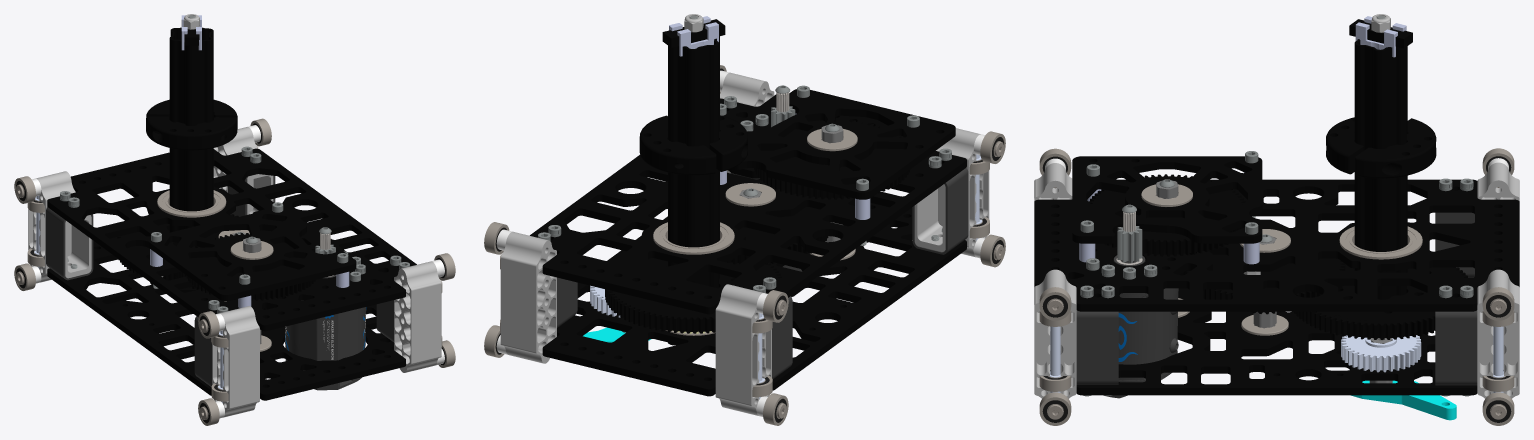
3 views of the same model, side by side, from view 1: azimuth 30°, elevation 25°; view 2: azimuth 150°, elevation 25°; view 3: azimuth 270°, elevation 25° (orthographic). The views are drawn at different scales.
Parts seen in each view (by area): view 1: NAUO1, NAUO2, NAUO79 (×4), NAUO19, NAUO16, NAUO3, NAUO26, NAUO17, NAUO31, NAUO30, NAUO88 (×2), NAUO87 (×2) (+3 smaller); view 2: NAUO1, NAUO2, NAUO79 (×4), NAUO19, NAUO16, NAUO26, NAUO15, NAUO17, NAUO30, NAUO88 (×3), NAUO31, NAUO87 (×2) (+7 smaller); view 3: NAUO1, NAUO2, NAUO19, NAUO16, NAUO79 (×4), NAUO26, NAUO15, NAUO3, NAUO28, NAUO29, NAUO17, NAUO33 (+15 smaller).
Part boxes in pixels (<box>): NAUO1: <box>47,148,416,331</box>; NAUO2: <box>47,237,405,400</box>; NAUO79 (×4): <box>28,127,441,417</box>; NAUO19: <box>147,207,356,300</box>; NAUO16: <box>169,27,213,232</box>; NAUO3: <box>285,233,366,390</box>; NAUO26: <box>146,99,237,150</box>; NAUO17: <box>186,233,315,300</box>; NAUO31: <box>46,207,93,280</box>; NAUO30: <box>194,316,211,386</box>; NAUO88 (×2): <box>14,263,219,338</box>; NAUO87 (×2): <box>14,176,219,425</box>; NAUO1: <box>530,94,966,314</box>; NAUO2: <box>542,202,966,396</box>; NAUO79 (×4): <box>500,72,989,415</box>; NAUO19: <box>732,89,955,199</box>; NAUO16: <box>668,36,719,345</box>; NAUO26: <box>639,115,747,175</box>; NAUO15: <box>605,258,781,333</box>; NAUO17: <box>754,119,910,199</box>; NAUO30: <box>912,167,968,254</box>; NAUO88 (×3): <box>484,131,1005,425</box>; NAUO31: <box>772,296,792,379</box>; NAUO87 (×2): <box>763,234,1005,322</box>; NAUO1: <box>1034,179,1519,311</box>; NAUO2: <box>1076,271,1477,395</box>; NAUO19: <box>1072,156,1262,243</box>; NAUO16: <box>1354,39,1407,299</box>; NAUO79 (×4): <box>1034,162,1519,398</box>; NAUO26: <box>1326,117,1436,178</box>; NAUO15: <box>1294,264,1467,339</box>; NAUO3: <box>1107,212,1178,398</box>; NAUO28: <box>1435,310,1477,385</box>; NAUO29: <box>1076,310,1118,384</box>; NAUO17: <box>1088,174,1245,256</box>; NAUO33: <box>1341,335,1421,372</box>.
Bounding box in the file's own units: 0.2079 × 0.229 × 0.2921.
